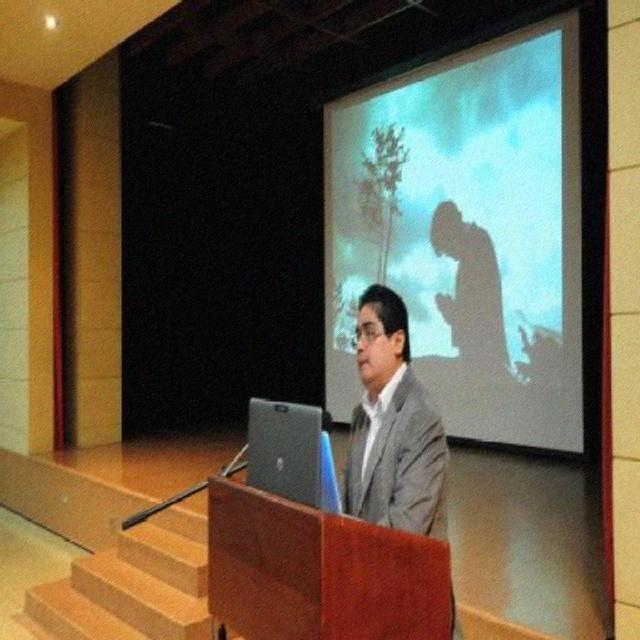stair: (11, 492, 246, 640)
